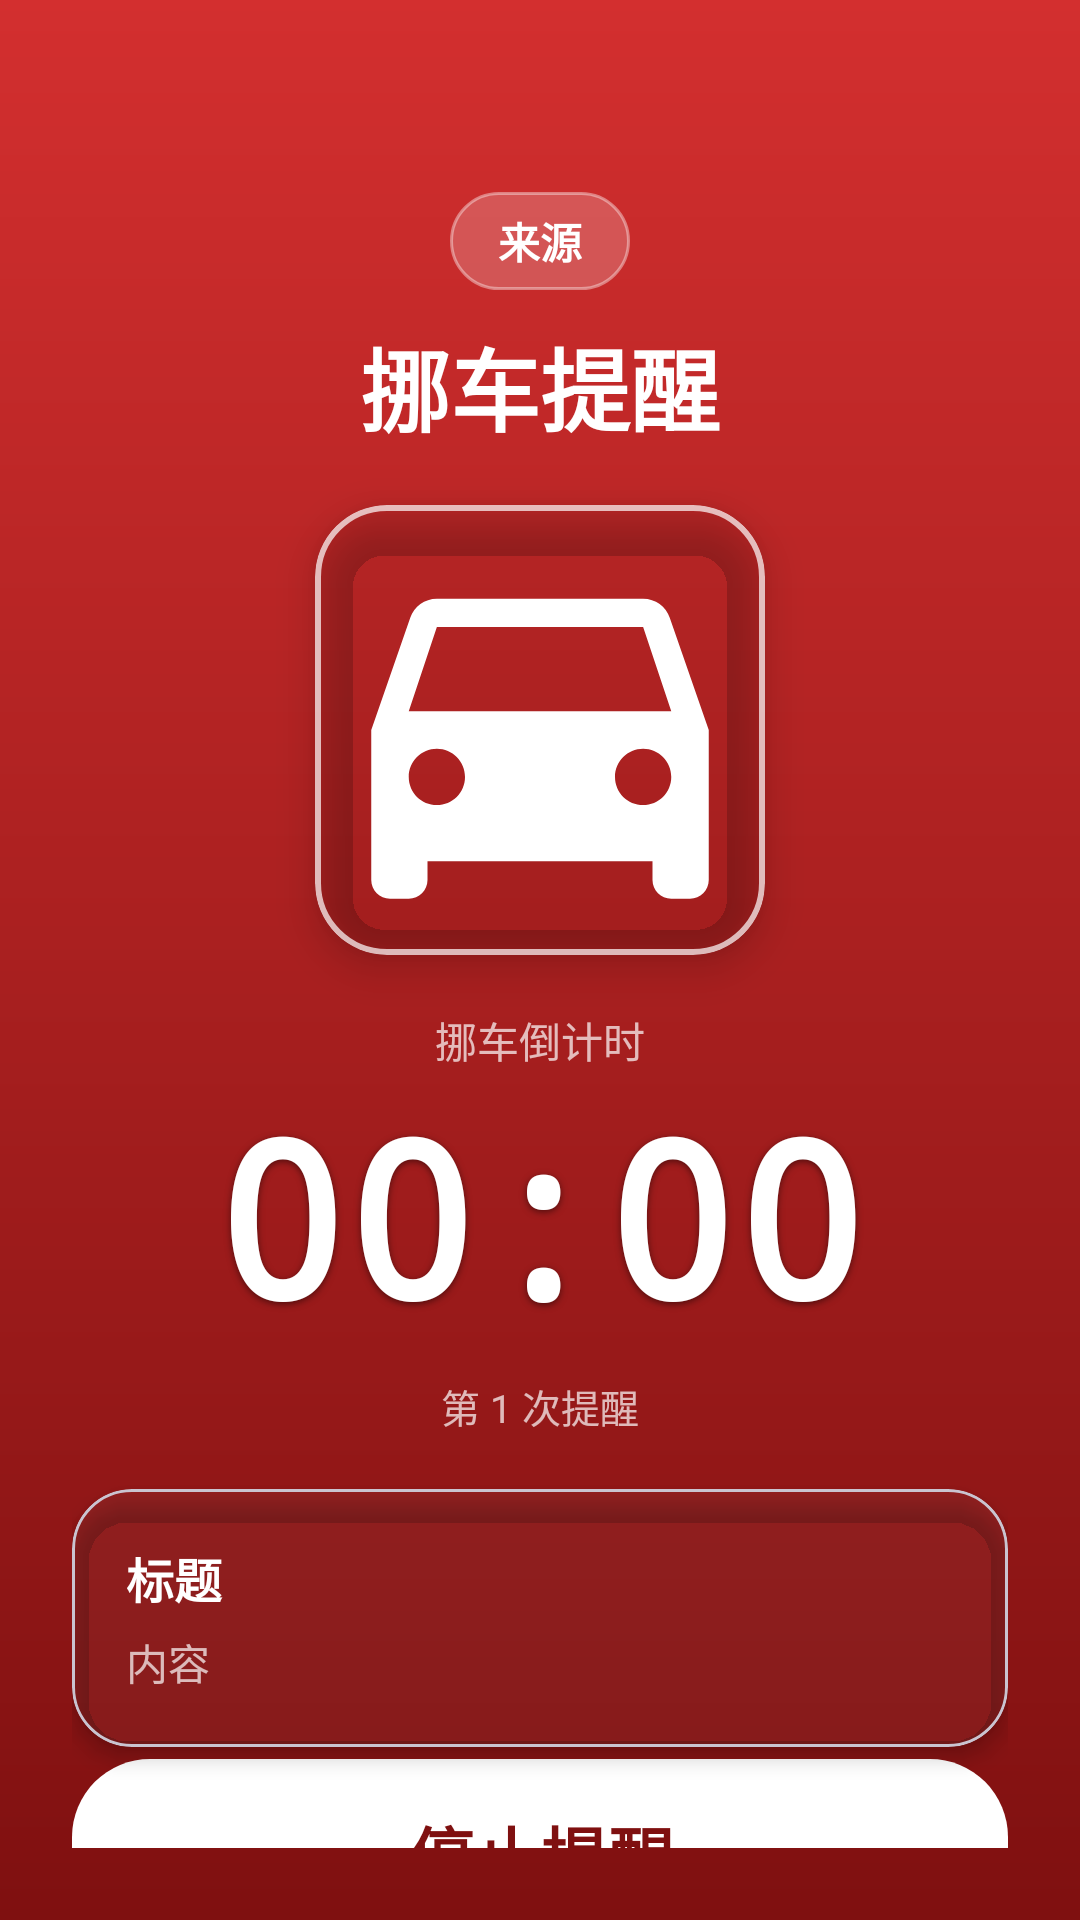

Screen size 1080w x 1920h. Icon name, then its box in pixels as [x1, y1, x2, y2]:
弹窗图片: [371, 598, 709, 899]
